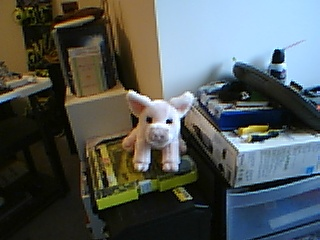piggy: (120, 88, 196, 174)
